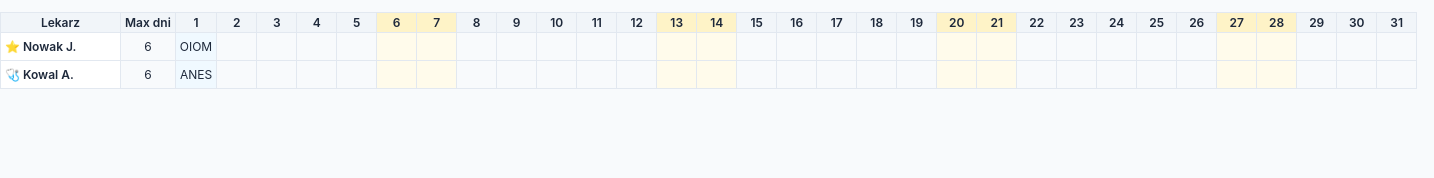
it: AspectA › single click in view mode opens ward picker after delay
Click the cell "OIOM": (196, 46) [175, 32, 217, 60]
Wait 250 ms
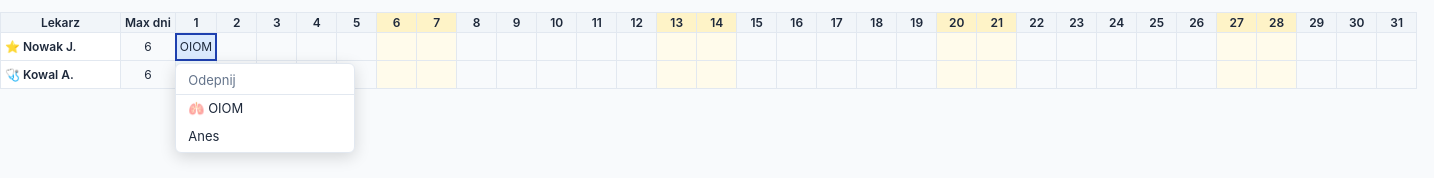
Expected: the list item "Odepnij" is shown, [176, 67, 354, 95]
Expected: the list item "🫁 OIOM" is shown, [188, 100, 243, 116]
